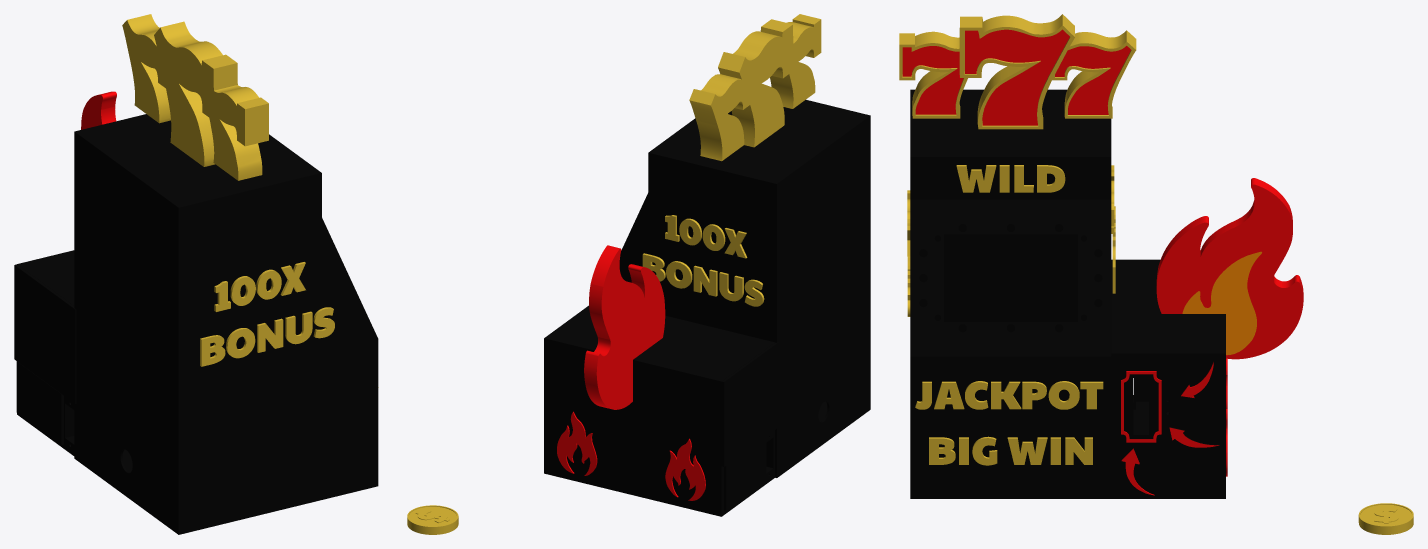
File: esp-slot-machine.glb
The picture shows the model from 3 angles, left to right: view 1: azimuth 30°, elevation 25°; view 2: azimuth 150°, elevation 25°; view 3: azimuth 270°, elevation 25°; orthographic projection. The views are drawn at different scales.
Size of the model in its own units: 0.1883 by 0.2985 by 0.3276.
